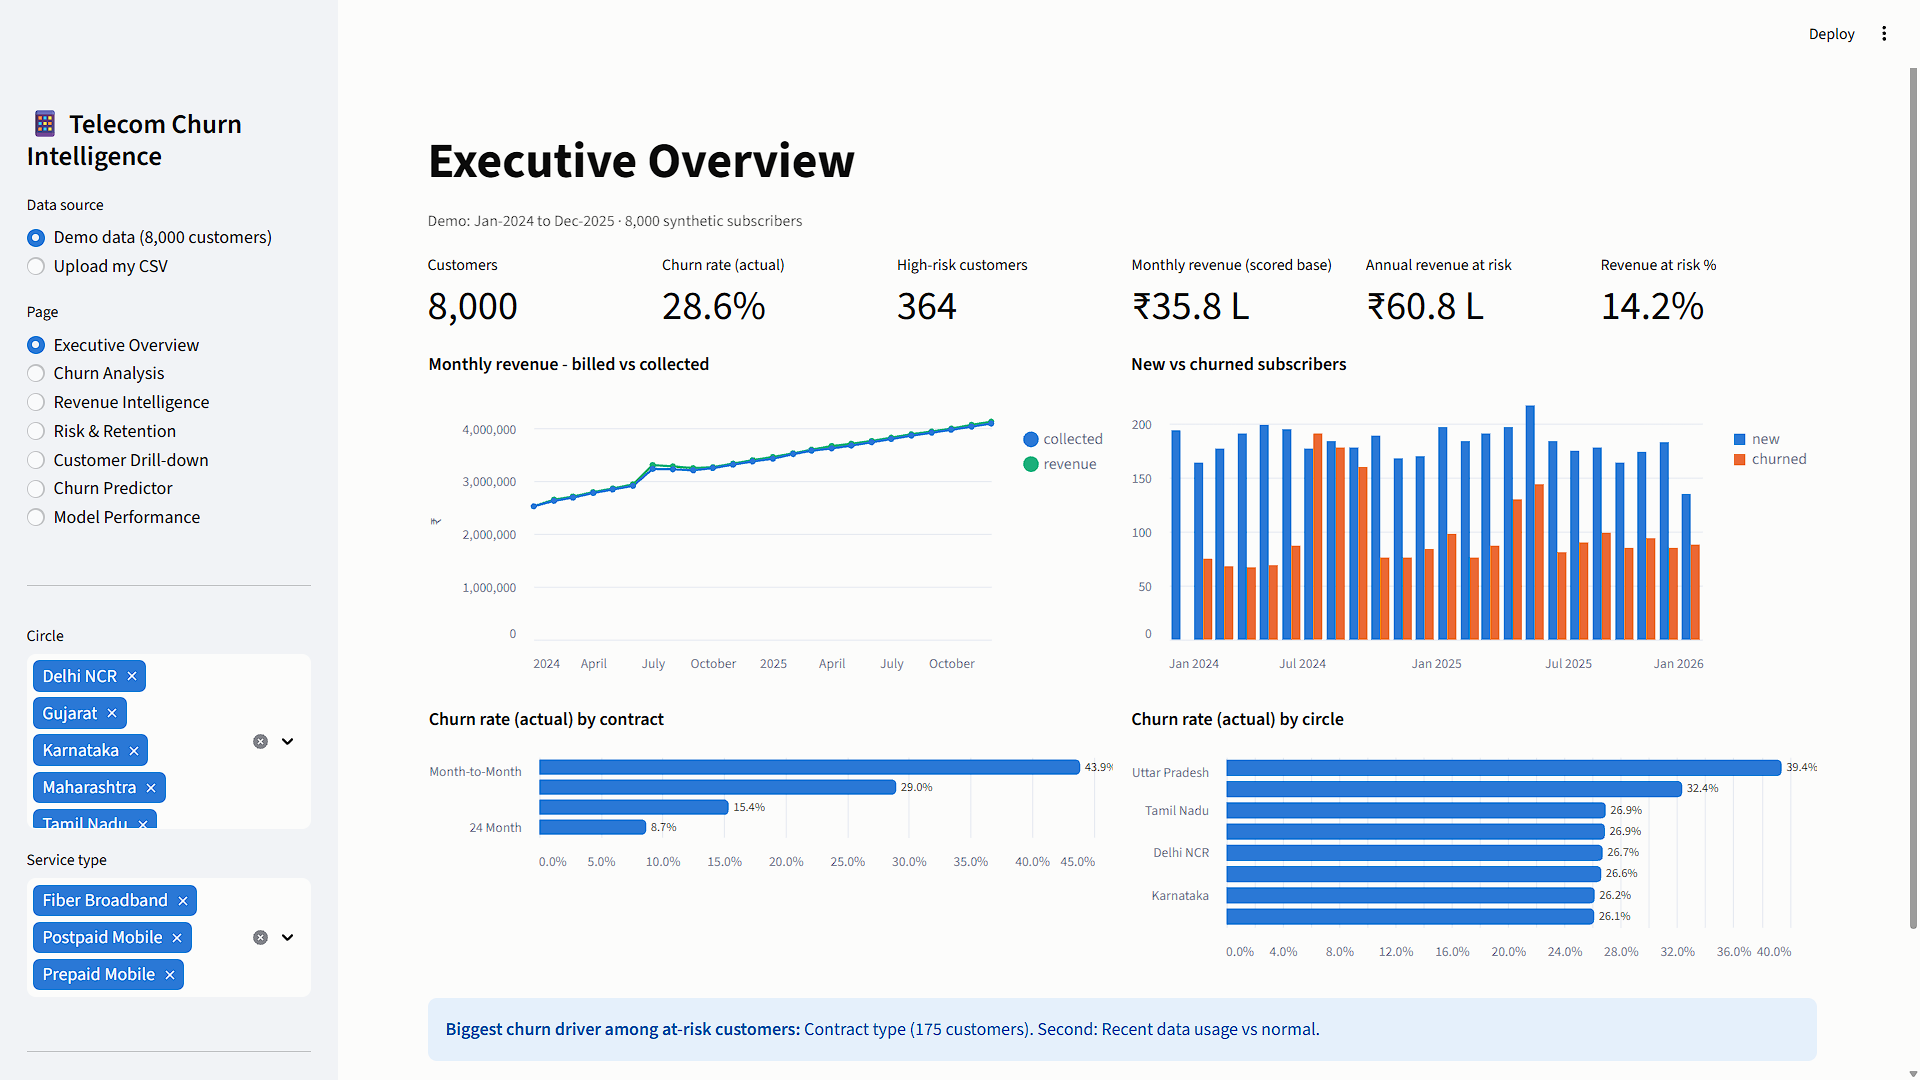

This screenshot's page, from the dashboard's own definition file:
{"tool":"powerbi","page":{"name":"Executive Overview","canvas":[1280,720],"ordinal":0},"visuals":[{"type":"slicer","fields":{"Values":["dim_date.fiscal_year"]},"box":[26,69,299.5,44.7],"z":0},{"type":"slicer","fields":{"Values":["dim_geography.circle"]},"box":[335.5,69,299.5,44.7],"z":1000},{"type":"slicer","fields":{"Values":["dim_customer.service_type"]},"box":[645,69,299.5,44.7],"z":2000},{"type":"slicer","fields":{"Values":["dim_customer.contract_type"]},"box":[954.5,69,299.5,44.7],"z":3000},{"type":"card","fields":{"Values":["_Measures.Total Customers"]},"box":[28,128,183.3,66.7],"z":4000},{"type":"card","fields":{"Values":["_Measures.Active Customers"]},"box":[238,128,183.3,66.7],"z":5000},{"type":"card","fields":{"Values":["_Measures.Churn Rate %"]},"box":[448,128,183.3,66.7],"z":6000},{"type":"card","fields":{"Values":["_Measures.Total Revenue"]},"box":[658,128,183.3,66.7],"z":7000},{"type":"card","fields":{"Values":["_Measures.ARPU"]},"box":[868,128,183.3,66.7],"z":8000},{"type":"card","fields":{"Values":["_Measures.Revenue at Risk"]},"box":[1078,128,183.3,66.7],"z":9000},{"type":"lineChart","title":"Monthly revenue - billed vs collected","fields":{"Category":["dim_date.month_start"],"Y":["_Measures.Total Revenue","_Measures.Revenue Collected"]},"box":[20,213.3,610.7,240],"z":10000},{"type":"clusteredColumnChart","title":"New vs churned subscribers","fields":{"Category":["dim_date.month_start"],"Y":["_Measures.New Subscribers","_Measures.Churned in Period"]},"box":[649.3,213.3,610.7,240],"z":11000},{"type":"clusteredBarChart","title":"Churn rate by contract","fields":{"Category":["dim_customer.contract_type"],"Y":["_Measures.Churn Rate %"]},"box":[20,472,442,228],"z":12000},{"type":"clusteredBarChart","title":"Churn rate by circle","fields":{"Category":["dim_geography.circle"],"Y":["_Measures.Churn Rate %"]},"box":[480.7,472,400.7,228],"z":13000},{"type":"donutChart","title":"Revenue at risk by tier","fields":{"Category":["fact_churn_predictions.risk_tier"],"Y":["_Measures.Revenue at Risk"]},"box":[900,472,360,228],"z":14000}]}

Visuals, with their boxes on the page's 1280x720 design canvas (x1, y1, x2, y2). These are canvas units, not pixel positions in the 1920x1080 screenshot, which may show the page scaled, cropped or inside an application window:
slicer - dim_date.fiscal_year: left=26, top=69, right=326, bottom=114
slicer - dim_geography.circle: left=336, top=69, right=635, bottom=114
slicer - dim_customer.service_type: left=645, top=69, right=944, bottom=114
slicer - dim_customer.contract_type: left=954, top=69, right=1254, bottom=114
card - _Measures.Total Customers: left=28, top=128, right=211, bottom=195
card - _Measures.Active Customers: left=238, top=128, right=421, bottom=195
card - _Measures.Churn Rate %: left=448, top=128, right=631, bottom=195
card - _Measures.Total Revenue: left=658, top=128, right=841, bottom=195
card - _Measures.ARPU: left=868, top=128, right=1051, bottom=195
card - _Measures.Revenue at Risk: left=1078, top=128, right=1261, bottom=195
"Monthly revenue - billed vs collected" lineChart: left=20, top=213, right=631, bottom=453
"New vs churned subscribers" clusteredColumnChart: left=649, top=213, right=1260, bottom=453
"Churn rate by contract" clusteredBarChart: left=20, top=472, right=462, bottom=700
"Churn rate by circle" clusteredBarChart: left=481, top=472, right=881, bottom=700
"Revenue at risk by tier" donutChart: left=900, top=472, right=1260, bottom=700
